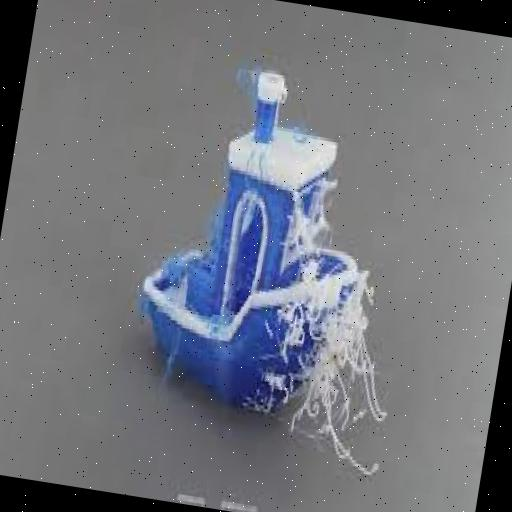spaghetti: (267, 281, 401, 488), (284, 172, 345, 278), (228, 51, 264, 114)
